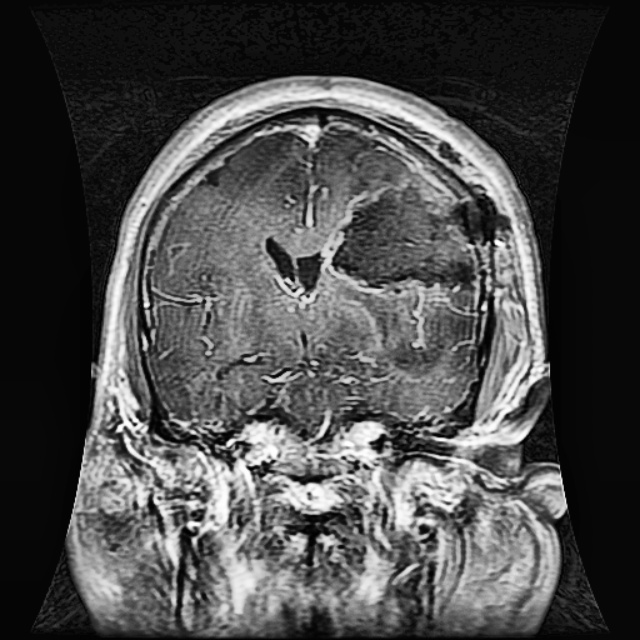Glioma: (319, 172, 478, 295)
